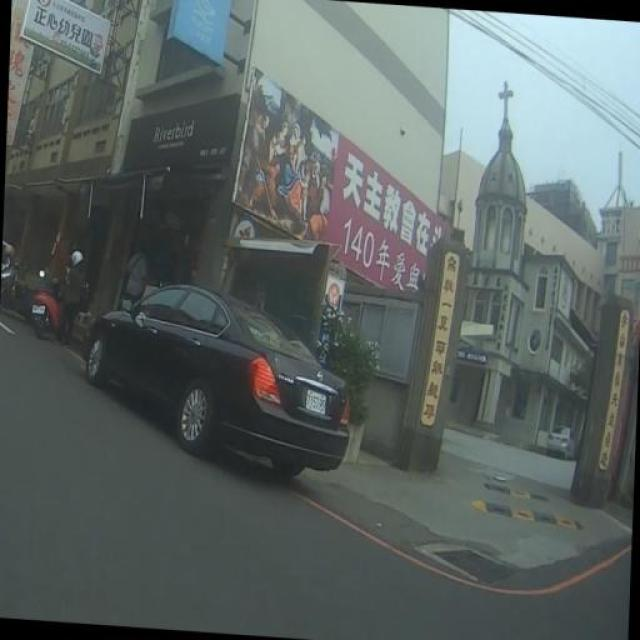Legalparking: (44, 257, 412, 491)
